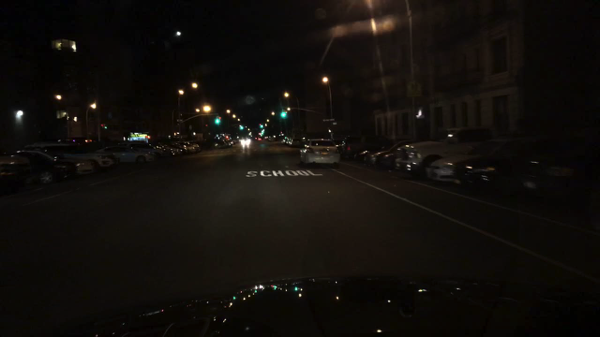car: (393, 126, 516, 181), (452, 135, 564, 191), (513, 132, 599, 194), (425, 134, 528, 185), (0, 146, 79, 187), (26, 141, 120, 170), (13, 147, 99, 176), (340, 132, 394, 160), (363, 139, 413, 168), (298, 139, 342, 169), (91, 145, 153, 165), (0, 151, 31, 191), (117, 140, 166, 160), (130, 140, 177, 157), (352, 143, 390, 162), (155, 142, 181, 156), (162, 143, 192, 154), (206, 137, 229, 150), (170, 143, 197, 154), (329, 136, 345, 154), (183, 141, 202, 152), (289, 136, 302, 148), (219, 137, 234, 147), (298, 137, 309, 148), (284, 137, 295, 147), (280, 135, 290, 145), (242, 138, 251, 146), (267, 135, 276, 142), (254, 136, 262, 142), (231, 137, 237, 145), (264, 135, 272, 140), (237, 138, 244, 143)
traffic light: (279, 110, 287, 119), (214, 115, 221, 124), (258, 123, 264, 131), (238, 124, 244, 131), (203, 123, 209, 129), (260, 130, 267, 135), (99, 124, 106, 129)
traffic sign: (404, 78, 424, 98), (321, 117, 337, 123), (174, 118, 184, 123)
